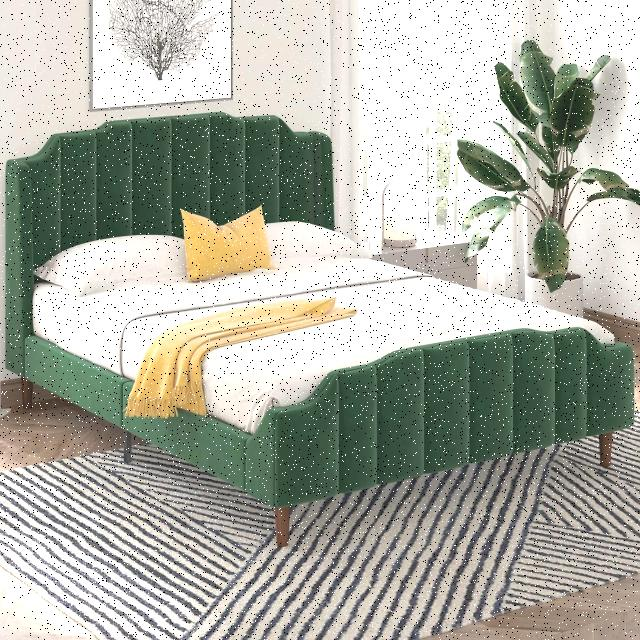bed: (14, 210, 640, 467)
